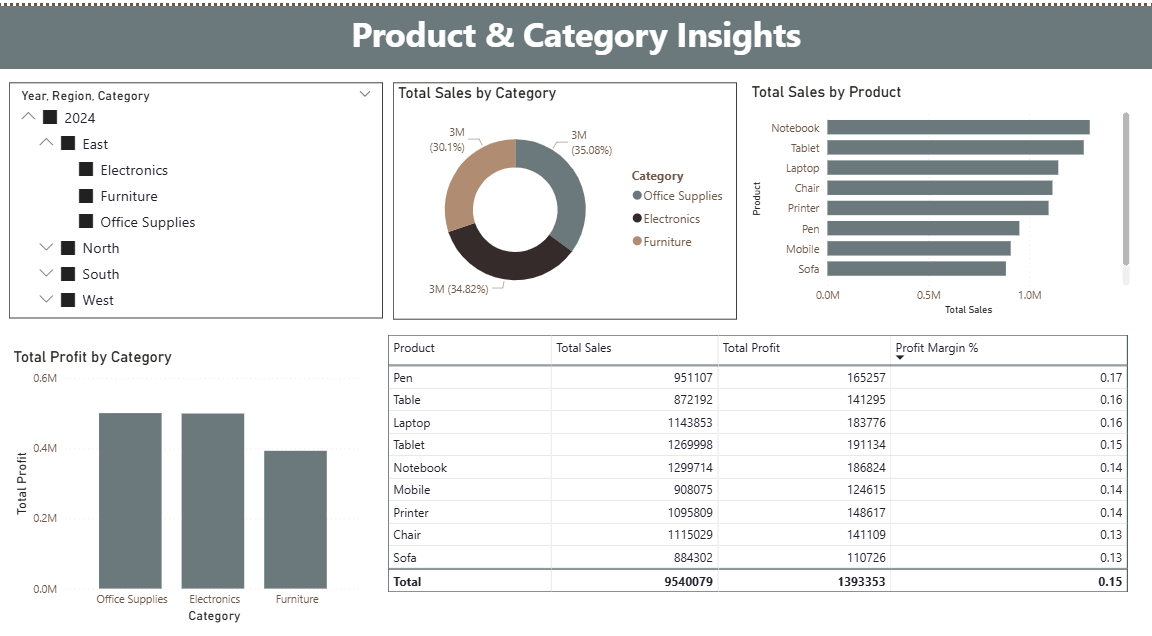

Layout of this report page (visuals, bound fields, positions):
{"tool":"powerbi","page":{"name":"Page 3","canvas":[1280,720],"ordinal":2},"visuals":[{"type":"textbox","box":[9.7,0,1250,63.1],"z":0},{"type":"clusteredBarChart","fields":{"Category":["Sales_Data.Product"],"Y":["Sales_Data.Total Sales"]},"box":[0,85.8,367.6,247.7],"z":1000},{"type":"clusteredColumnChart","fields":{"Category":["Sales_Data.Category"],"Y":["Sales_Data.Total Profit"]},"box":[9.7,391.9,377.3,297.9],"z":2000},{"type":"tableEx","fields":{"Values":["Sales_Data.Product","Sales_Data.Total Sales","Sales_Data.Total Profit","Sales_Data.Profit Margin %"]},"box":[424.2,374,835.5,333.6],"z":3000},{"type":"donutChart","fields":{"Category":["Sales_Data.Category"],"Y":["Sales_Data.Total Sales"]},"box":[387,85.8,393.5,262.3],"z":4000},{"type":"slicer","fields":{"Values":["Sales_Data.Year","Sales_Data.Region","Sales_Data.Category"]},"box":[809.6,69.6,450.1,208.9],"z":5000}]}

Visuals, with their boxes in screenshot pixels (x1, y1, x2, y2), scaled from the page's 1280x720 canvas onto the 1152x636 screenshot:
textbox: (9,0,1134,56)
clusteredBarChart - Sales_Data.Product x Sales_Data.Total Sales: (0,76,331,295)
clusteredColumnChart - Sales_Data.Category x Sales_Data.Total Profit: (9,346,348,609)
tableEx - Sales_Data.Product x Sales_Data.Total Sales: (382,330,1134,625)
donutChart - Sales_Data.Category x Sales_Data.Total Sales: (348,76,702,307)
slicer - Sales_Data.Year x Sales_Data.Region: (729,61,1134,246)
